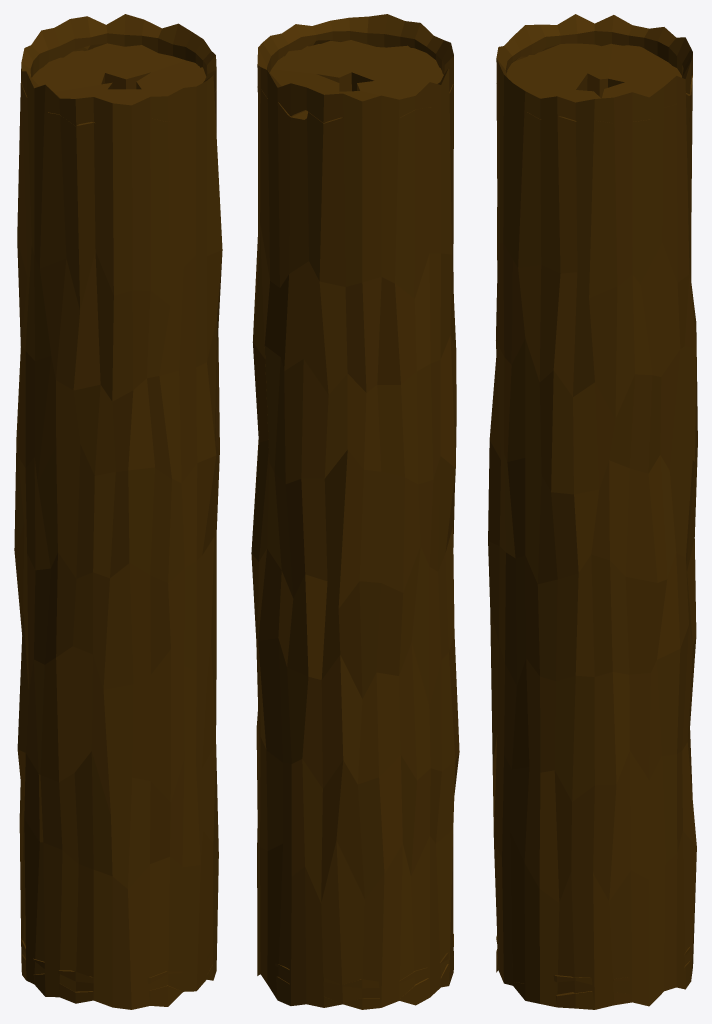
Rendered from log.fbx.
3 renders of one model, left to right at view 1: azimuth 30°, elevation 25°; view 2: azimuth 150°, elevation 25°; view 3: azimuth 270°, elevation 25°, orthographic.
Visible parts, largest first — view 1: Cylinder.001; view 2: Cylinder.001; view 3: Cylinder.001.
Part boxes in pixels (x1,y1,x2,y2): Cylinder.001: (14, 14, 222, 1009); Cylinder.001: (251, 14, 459, 1009); Cylinder.001: (488, 14, 697, 1009).
Bounding box in the file's own units: 49.8 × 244 × 50.32.
